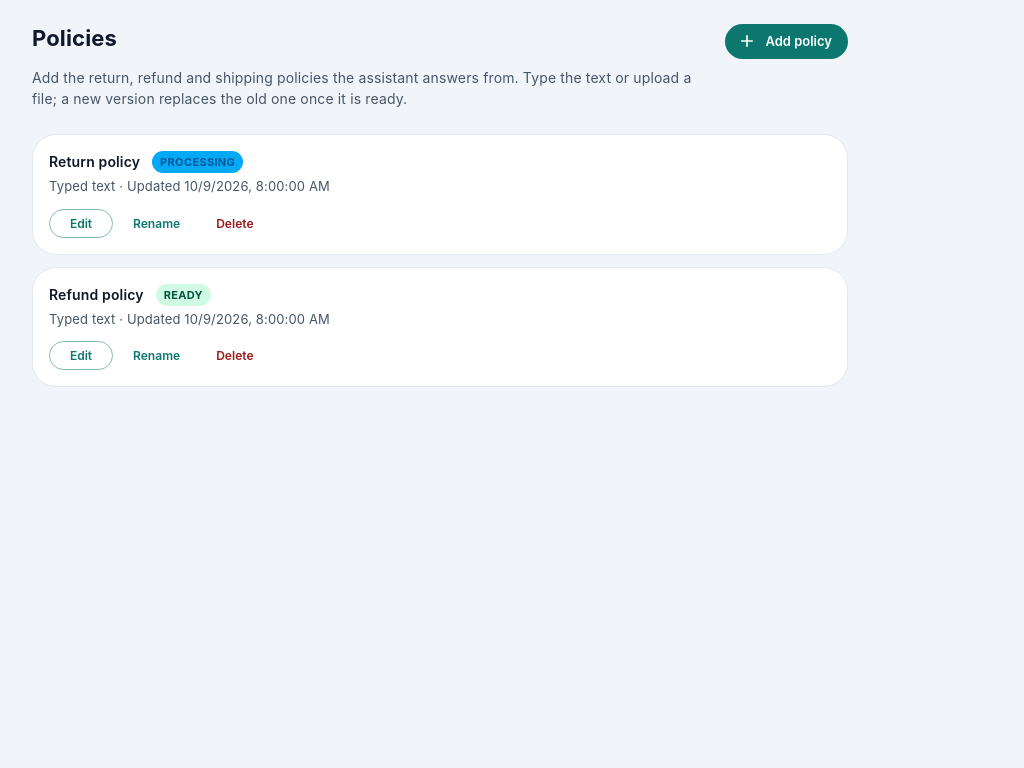
Scenario: PoliciesPage › asks before deleting, then removes the row, toasts and focuses the heading
This screenshot has width=1024, height=768.
Click the button with aria-label "Delete Return policy" at (235, 223), box [200,209,270,238]
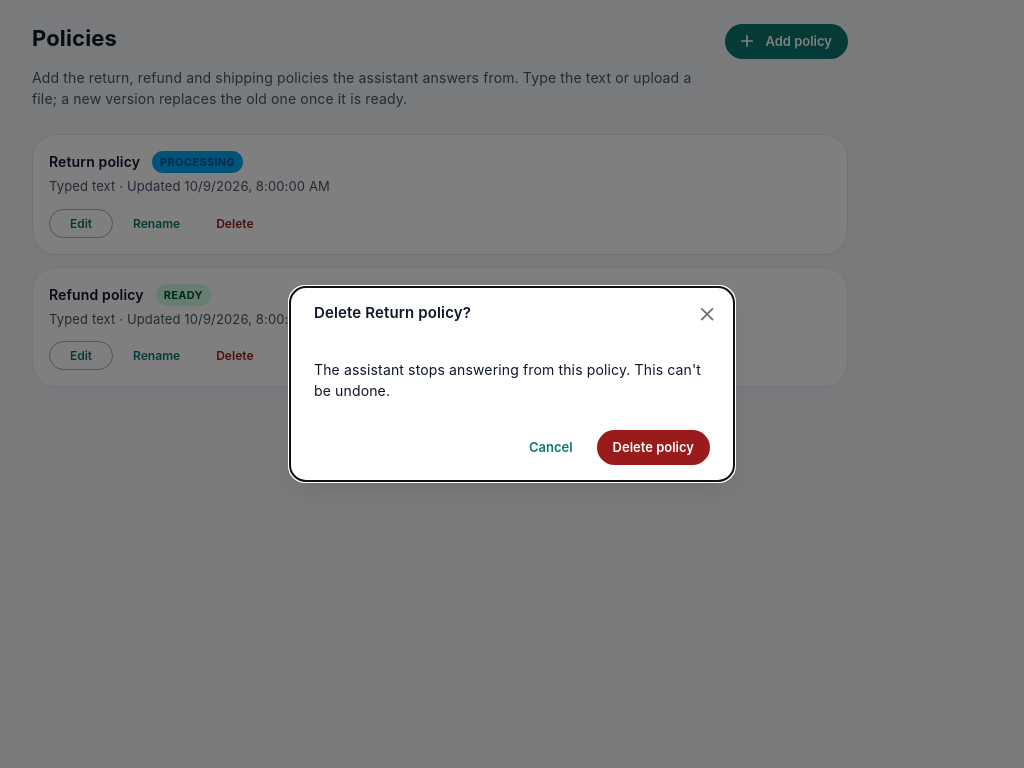
Click the button "Delete policy" at (653, 448), box [597,430,710,465]
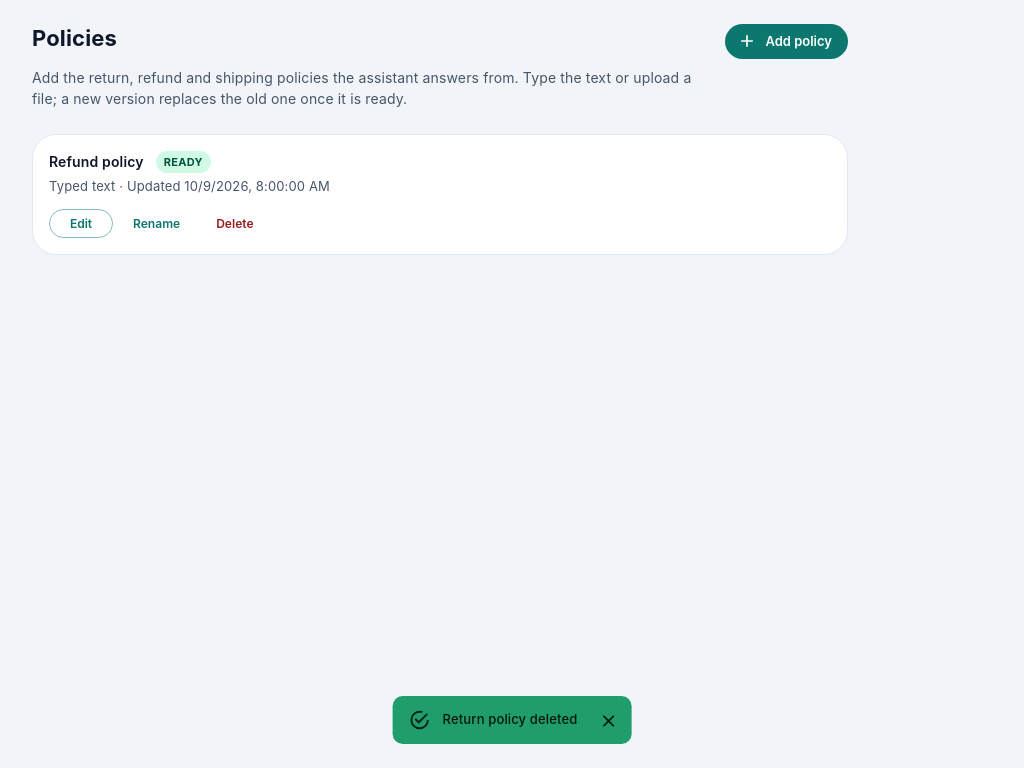
Now the text "Return policy deleted" is shown, box [443,711,577,727]
